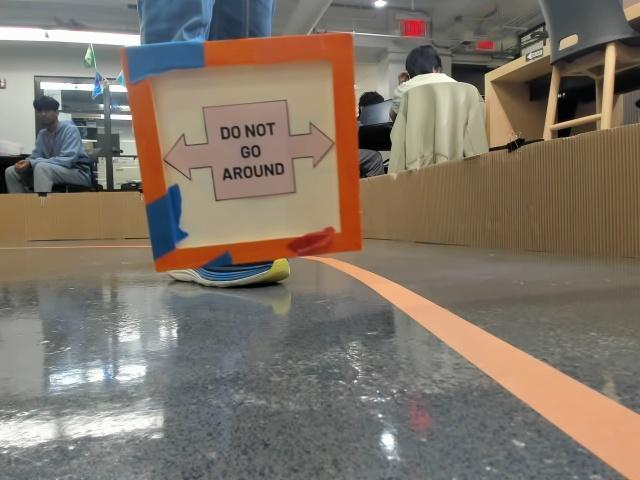Do Not Go Around: (159, 112, 327, 206)
